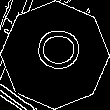O_W: (29, 33, 81, 77)
